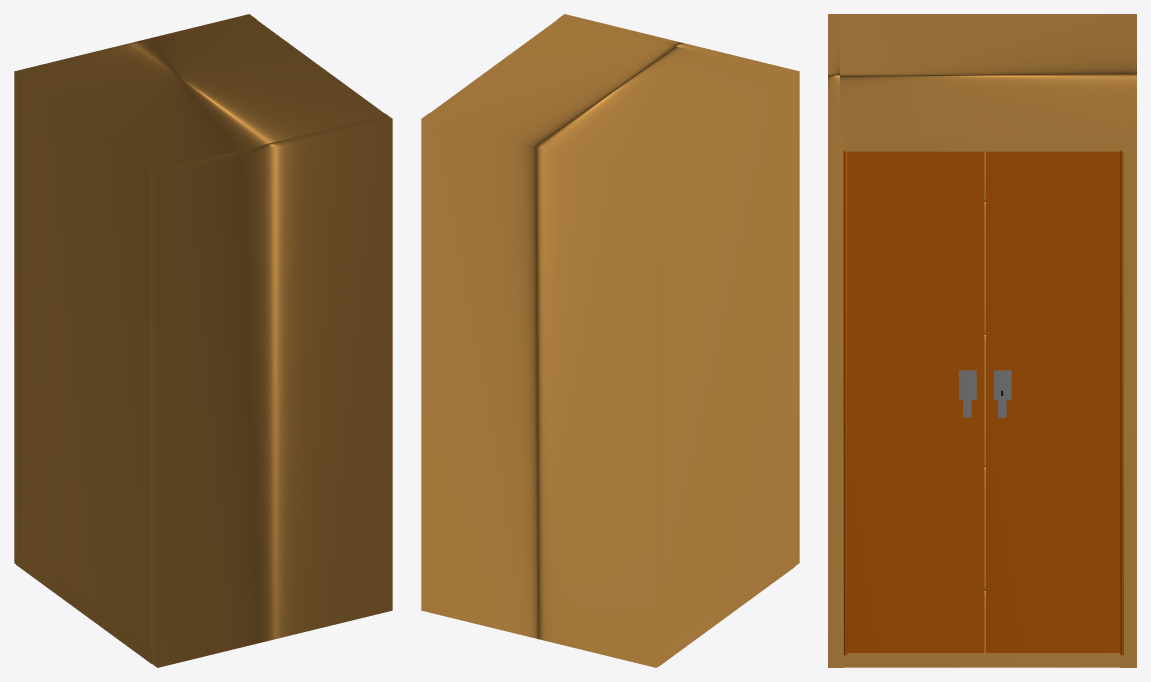
Rendered from ComputerFileCabnetLowRes.fbx.
The picture shows the model from 3 angles, left to right: view 1: azimuth 30°, elevation 25°; view 2: azimuth 150°, elevation 25°; view 3: azimuth 270°, elevation 25°; orthographic projection. The views are drawn at different scales.
Parts seen in each view (by area): view 1: Cube_008; view 2: Cube_008; view 3: Cube_008.
Boxes of the visible parts, box(x1,y1,x2,y2) form: Cube_008: box(14, 14, 392, 667); Cube_008: box(421, 14, 799, 667); Cube_008: box(828, 14, 1136, 667).
Size of the model in its own units: 2.12 by 4 by 2.11.
